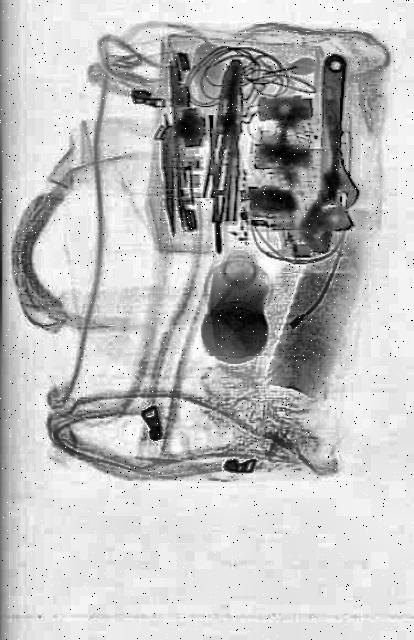Wrench: (296, 51, 366, 259)
